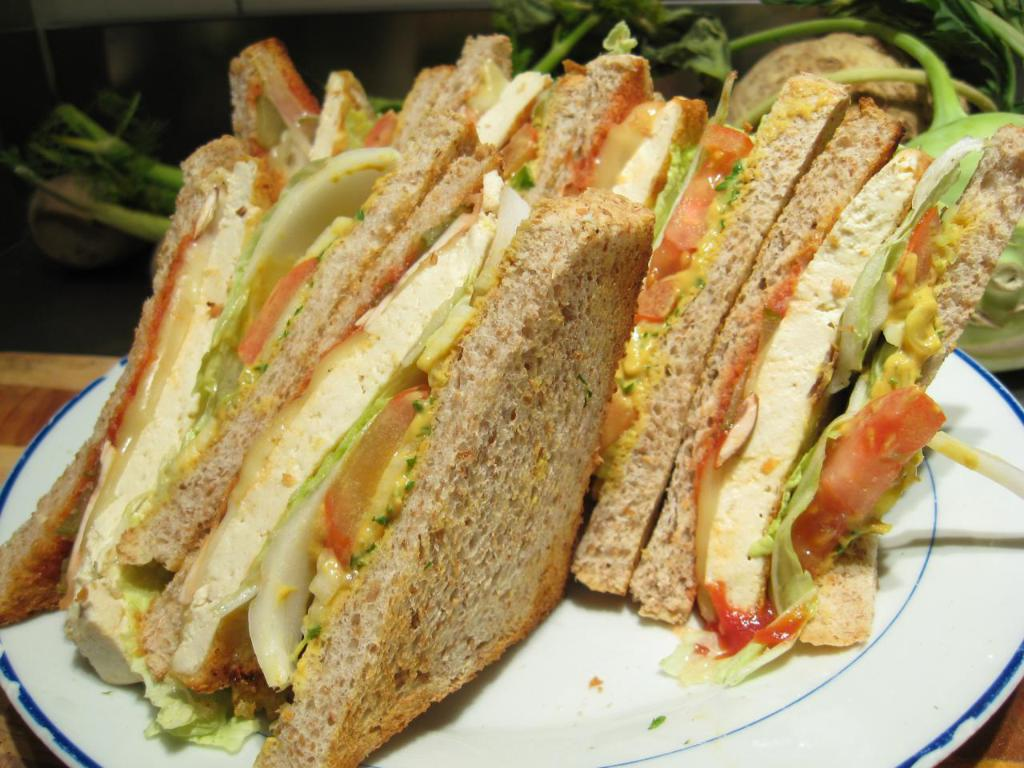sandwich: (0, 36, 1023, 767)
